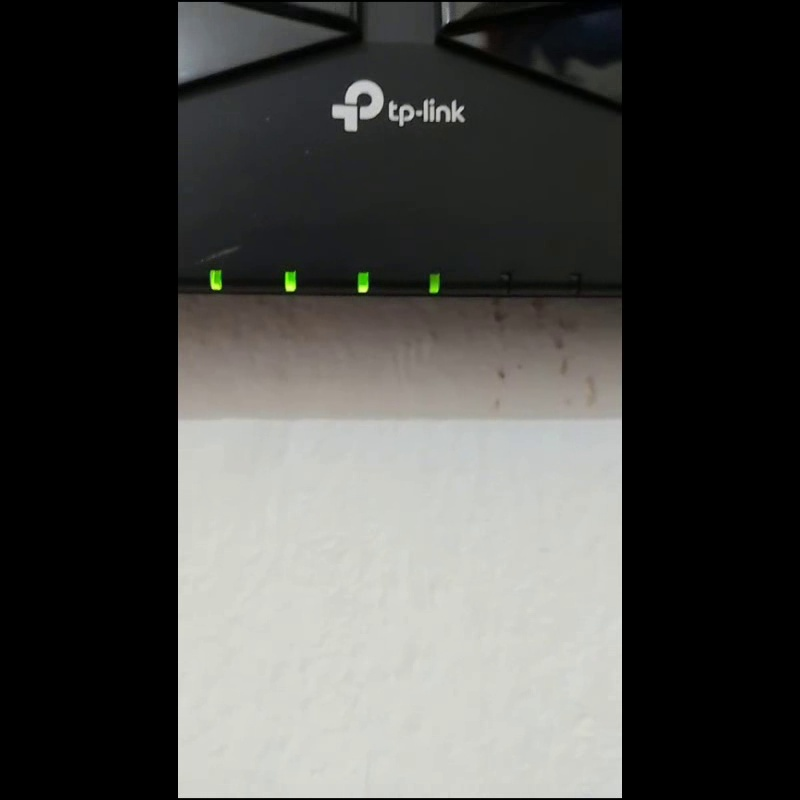off: (499, 272, 510, 292), (570, 273, 580, 291)
on_green: (210, 268, 222, 290), (357, 271, 368, 292), (284, 270, 295, 290), (428, 273, 439, 293)
